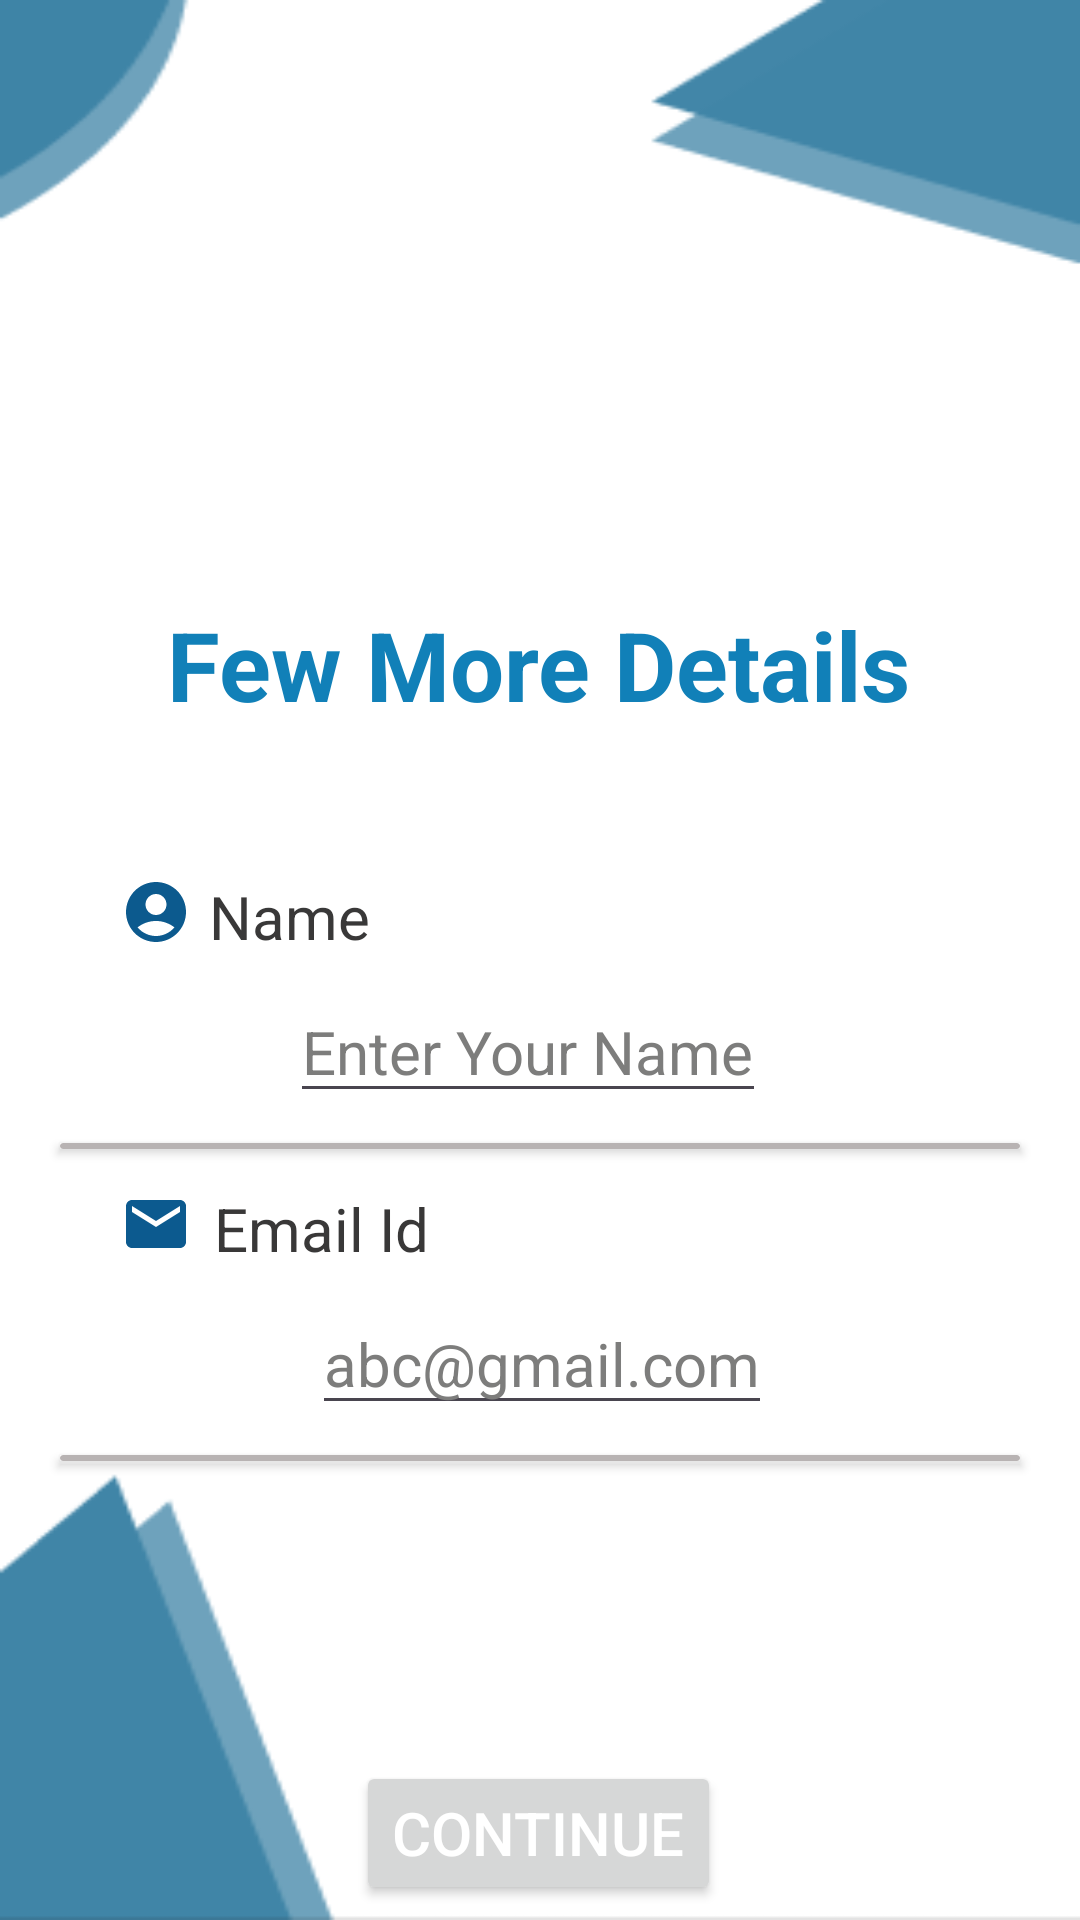

Named icons in this screenshot (1080 × 1920) and their bounding boxes, (x1, y1, x2, y2):
account circle: (126, 882, 186, 942)
